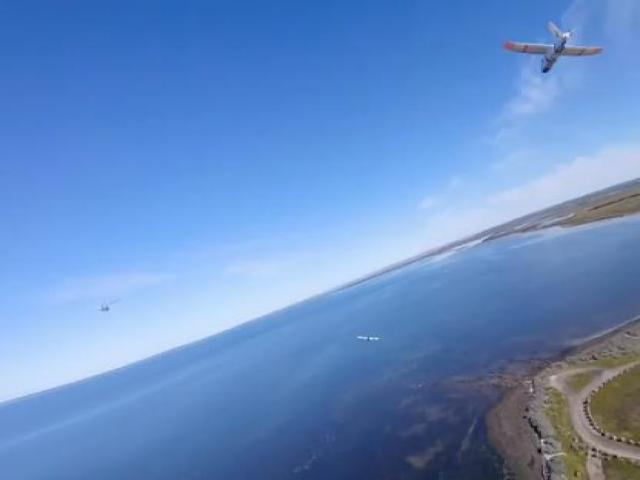uav: (502, 22, 602, 73), (358, 330, 385, 344)
